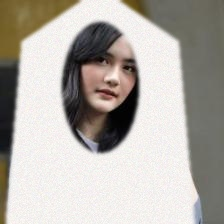Mukena: (4, 7, 196, 224)
